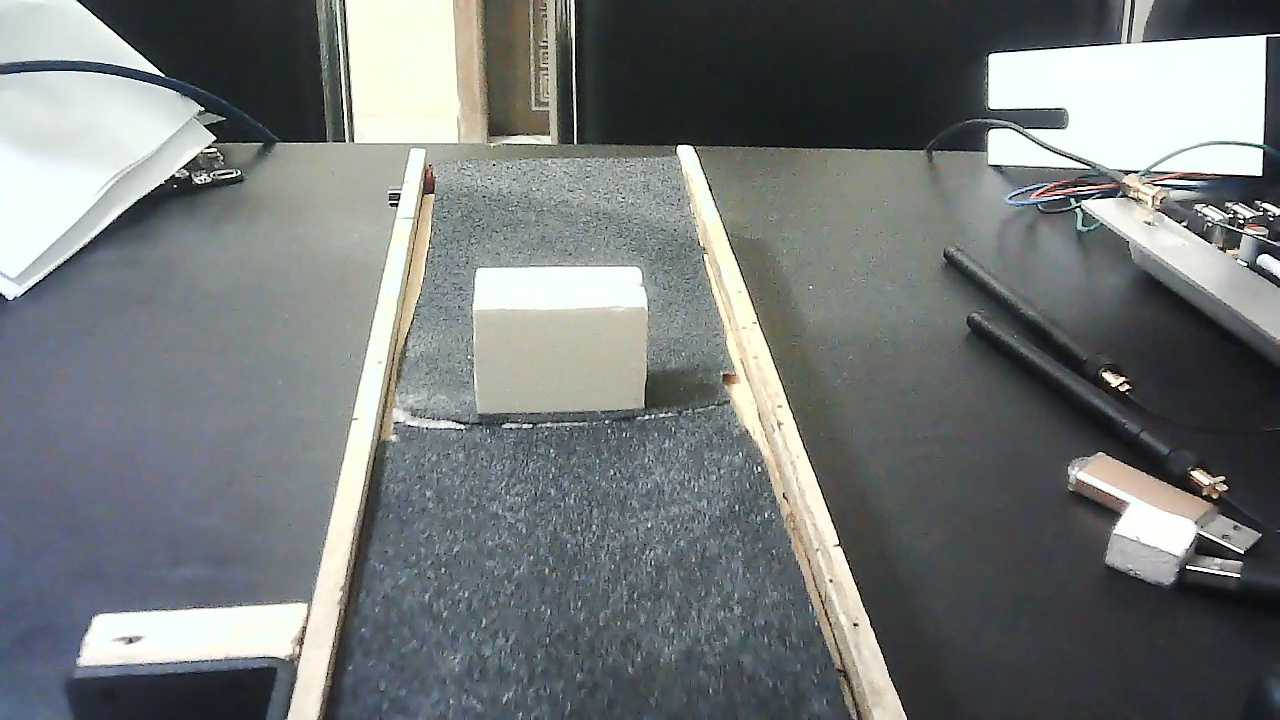BIG: (473, 254, 651, 432)
